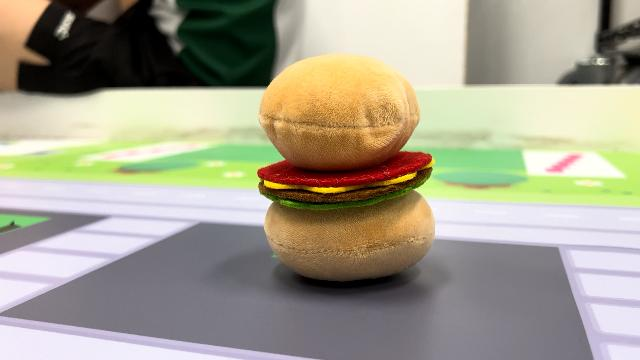burger: (250, 50, 442, 284)
